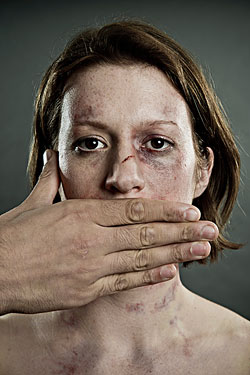face: (62, 61, 193, 274)
